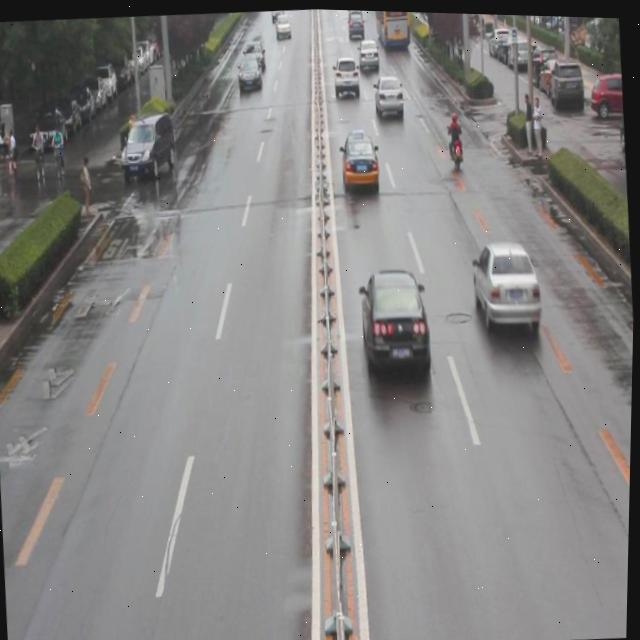car: (356, 261, 432, 384), (469, 233, 543, 339), (337, 130, 380, 193)
truck: (118, 112, 176, 178)
